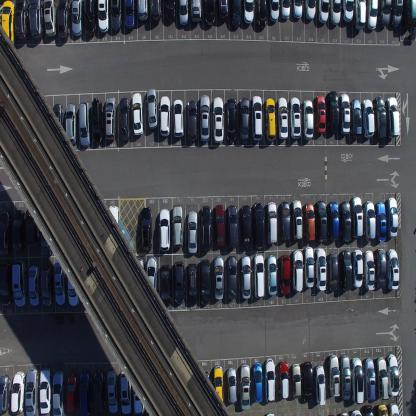car: (12, 260, 29, 306), (10, 369, 26, 414), (1, 0, 14, 52), (90, 97, 104, 145), (25, 367, 39, 415), (350, 356, 364, 403), (14, 0, 29, 42), (52, 370, 66, 415), (26, 202, 40, 246), (385, 96, 400, 137), (40, 209, 53, 256), (132, 368, 145, 415), (78, 101, 91, 147), (53, 260, 66, 306), (79, 370, 92, 416), (386, 248, 400, 290), (140, 207, 153, 252), (93, 370, 106, 415), (251, 94, 263, 142), (200, 205, 212, 253), (252, 202, 264, 250), (326, 90, 339, 134), (327, 353, 340, 397), (212, 96, 224, 143), (240, 203, 252, 250), (0, 210, 12, 257), (339, 354, 351, 401), (361, 98, 375, 138), (57, 0, 71, 40), (29, 0, 43, 40), (12, 208, 25, 251), (104, 95, 116, 141), (107, 204, 119, 250), (253, 253, 265, 299), (68, 260, 80, 306), (212, 364, 224, 410), (264, 357, 276, 403), (238, 97, 250, 142), (119, 97, 131, 142), (226, 204, 238, 249), (226, 255, 238, 300), (160, 263, 172, 308), (107, 369, 119, 414), (120, 369, 132, 414), (374, 96, 386, 140), (172, 204, 184, 248), (315, 248, 327, 292), (239, 363, 250, 411), (364, 357, 376, 401), (277, 360, 290, 400), (43, 0, 57, 37), (40, 367, 51, 414), (338, 93, 350, 136), (289, 96, 301, 139), (315, 200, 327, 243), (340, 199, 352, 242), (351, 195, 363, 238), (133, 257, 145, 300), (198, 369, 210, 412), (387, 353, 399, 396), (214, 204, 225, 250), (146, 256, 157, 302), (302, 98, 314, 140), (146, 87, 158, 129), (64, 102, 76, 144), (51, 102, 63, 144), (340, 249, 352, 291), (279, 254, 291, 296), (28, 264, 40, 306), (314, 363, 326, 405), (226, 97, 237, 142), (187, 210, 198, 255), (174, 260, 185, 305), (0, 261, 11, 306), (158, 95, 170, 136), (291, 200, 303, 241), (363, 200, 375, 241), (374, 247, 386, 288), (40, 265, 52, 306), (376, 356, 388, 397), (83, 0, 97, 35), (277, 96, 288, 140), (265, 97, 276, 141), (187, 98, 198, 142), (132, 92, 143, 136), (266, 202, 277, 246), (292, 249, 303, 293), (213, 256, 224, 300), (187, 262, 198, 306), (0, 371, 11, 415), (314, 94, 326, 134), (375, 202, 387, 242), (200, 258, 210, 306), (67, 373, 79, 413), (159, 208, 170, 251), (199, 95, 209, 142), (350, 98, 362, 137), (303, 203, 315, 242), (266, 254, 277, 296), (252, 361, 263, 403), (70, 0, 82, 38), (328, 201, 339, 242), (387, 197, 398, 238), (241, 255, 251, 300), (173, 98, 184, 138), (279, 200, 290, 240), (109, 0, 123, 31), (304, 246, 314, 289), (352, 249, 363, 288), (302, 361, 312, 403), (364, 250, 374, 291), (328, 251, 338, 292), (226, 368, 237, 404), (353, 0, 365, 32), (98, 0, 110, 32), (378, 0, 392, 27), (291, 363, 301, 400), (366, 0, 378, 30), (124, 0, 136, 29), (329, 0, 342, 26), (391, 0, 403, 28), (404, 0, 415, 29), (256, 0, 267, 29), (230, 0, 241, 29), (149, 0, 162, 23), (217, 0, 230, 22), (204, 0, 215, 26), (178, 0, 189, 26), (317, 0, 329, 23), (243, 0, 254, 25), (136, 0, 148, 22), (269, 0, 280, 23), (190, 0, 201, 23), (165, 0, 176, 23), (342, 0, 353, 22), (304, 0, 316, 20), (292, 0, 303, 20), (280, 0, 290, 20), (388, 401, 399, 415), (376, 403, 388, 415), (363, 405, 375, 415), (351, 408, 362, 416), (339, 410, 350, 415), (264, 411, 276, 415)
